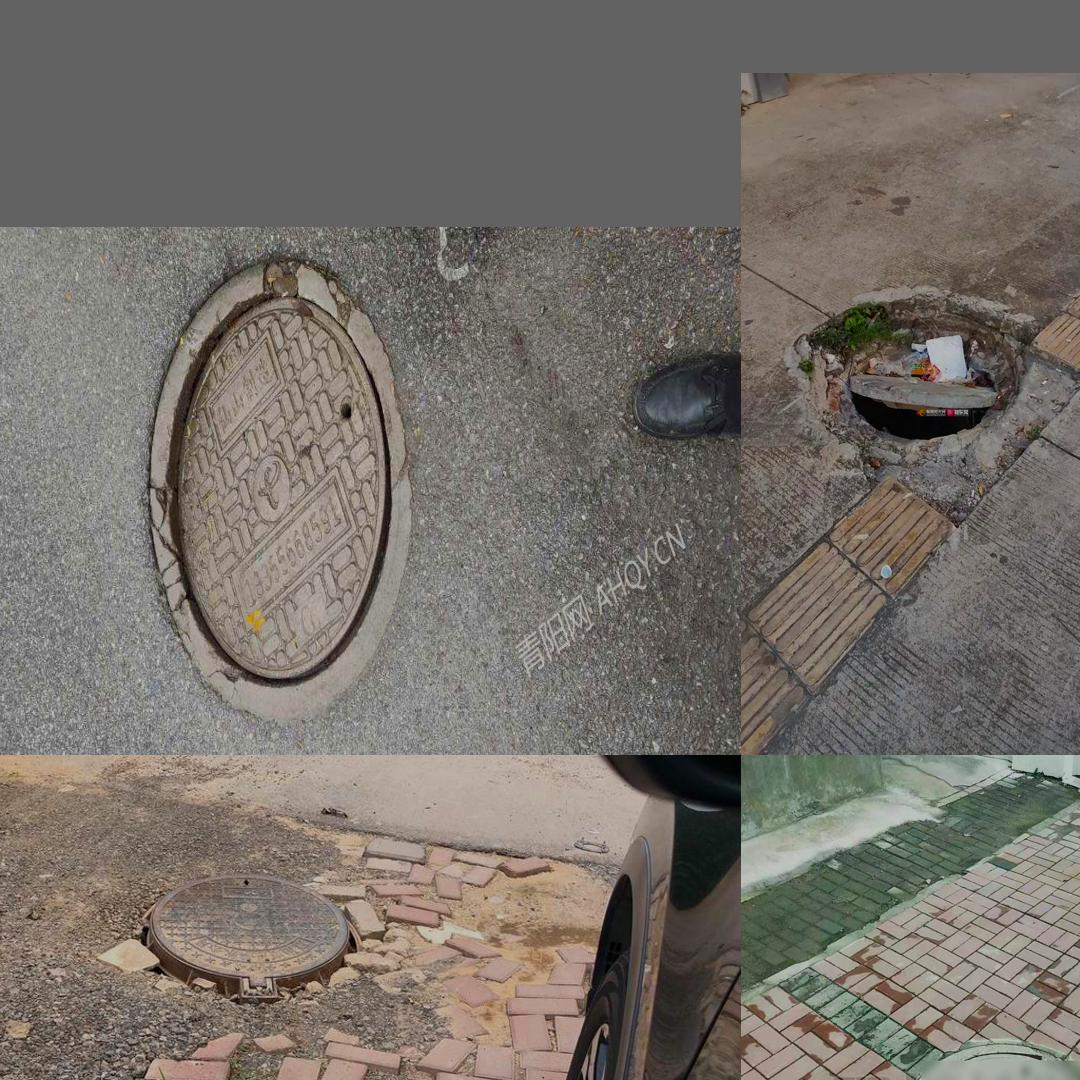circle: (111, 255, 428, 717), (79, 837, 433, 1047), (773, 280, 1073, 511), (896, 1043, 1080, 1080)
